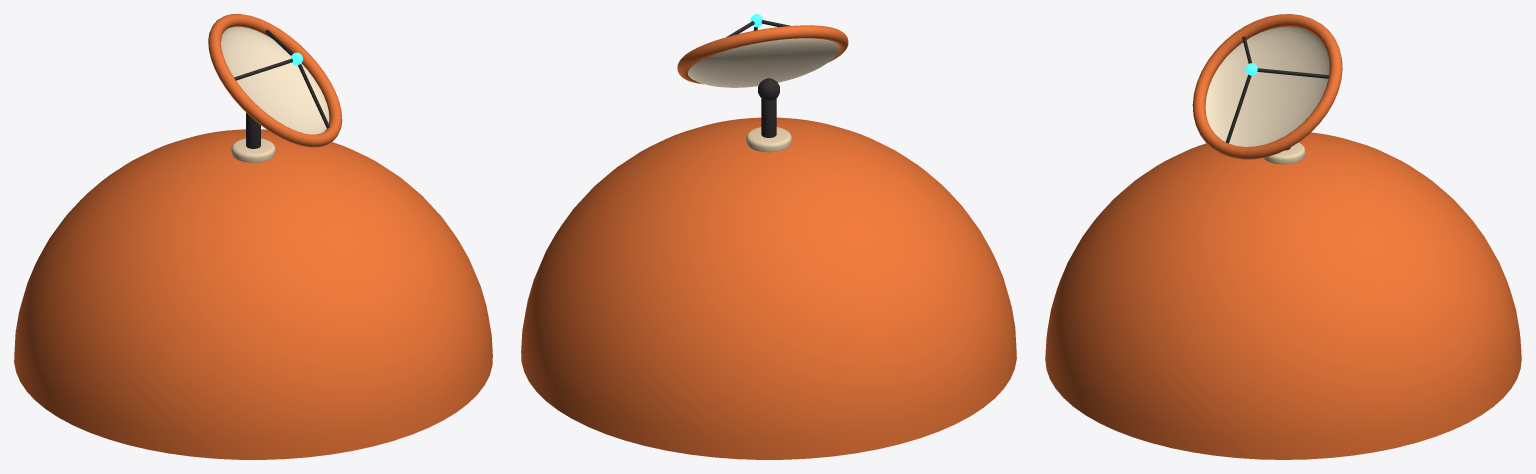
Rendered from arkdish-open.glb.
The picture shows the model from 3 angles, left to right: view 1: azimuth 30°, elevation 25°; view 2: azimuth 150°, elevation 25°; view 3: azimuth 270°, elevation 25°; orthographic projection. The views are drawn at different scales.
Parts seen in each view (by area): view 1: Sphere, Sphere.002, Cylinder.001, Cylinder; view 2: Sphere, Sphere.002, Cylinder.001, Cylinder; view 3: Sphere, Sphere.002, Cylinder.001, Cylinder.
Part boxes in pixels (box(x1,y1,x2,y2)): Sphere: box(14, 14, 492, 459); Sphere.002: box(221, 26, 329, 134); Cylinder.001: box(234, 29, 329, 148); Cylinder: box(231, 138, 275, 162); Sphere: box(521, 25, 1016, 459); Sphere.002: box(687, 38, 839, 87); Cylinder.001: box(727, 20, 790, 137); Cylinder: box(746, 127, 791, 152); Sphere: box(1045, 14, 1521, 459); Sphere.002: box(1205, 26, 1329, 146); Cylinder.001: box(1226, 36, 1328, 150); Cylinder: box(1263, 142, 1305, 164).
Bounding box in the file's own units: 2.6 × 1.99 × 2.6.
